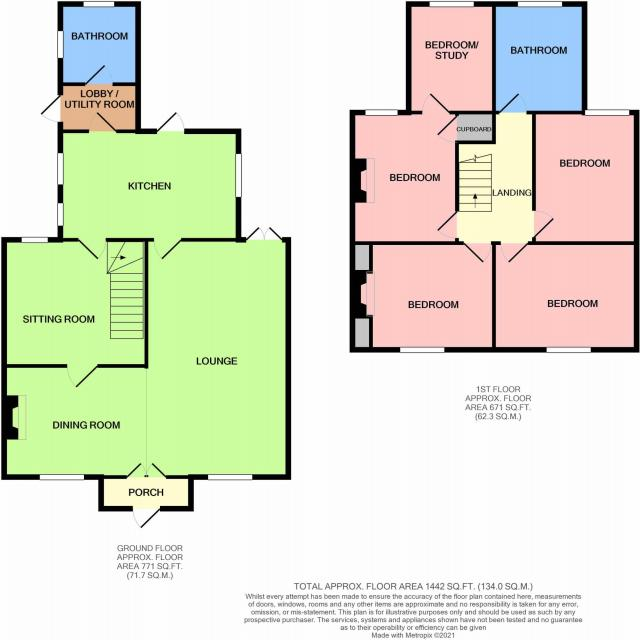DOOR: (64, 364, 107, 390), (75, 237, 112, 263), (531, 207, 557, 242), (151, 238, 188, 262), (131, 506, 167, 530), (153, 110, 187, 135), (433, 208, 459, 240), (460, 241, 493, 266), (82, 62, 115, 87), (87, 110, 121, 134), (497, 90, 529, 114), (421, 91, 453, 115), (39, 92, 63, 124), (499, 241, 531, 264)
ROOM: (0, 223, 292, 480), (58, 108, 242, 265), (0, 236, 148, 394), (349, 89, 496, 245), (350, 241, 497, 353), (492, 241, 639, 353), (531, 109, 639, 246), (406, 1, 496, 115)
WINDOW: (544, 342, 595, 356), (398, 343, 446, 355), (206, 472, 254, 483), (234, 149, 244, 200), (584, 108, 631, 117), (38, 473, 85, 481), (429, 0, 476, 8), (517, 0, 563, 8), (56, 151, 65, 186), (364, 108, 399, 117), (19, 235, 50, 245), (83, 0, 116, 9), (56, 29, 65, 60), (56, 200, 65, 227)
